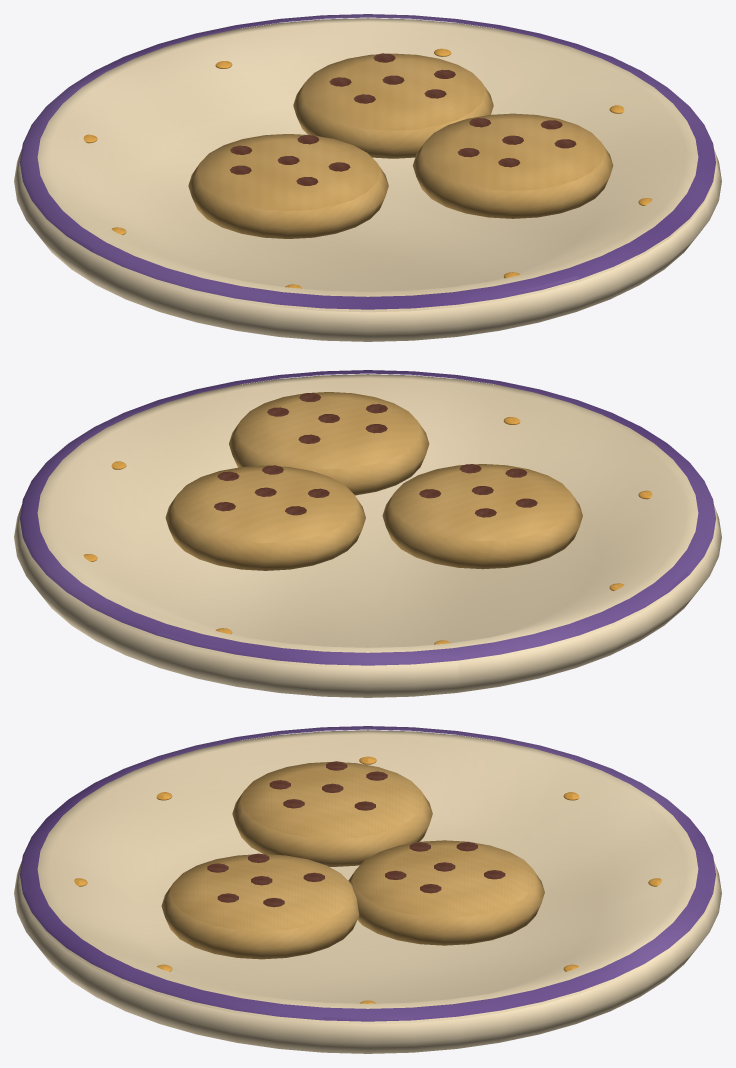
Rendered from V5_SnackCluster.fbx.
3 renders of one model, top to bottom at view 1: azimuth 30°, elevation 25°; view 2: azimuth 150°, elevation 25°; view 3: azimuth 270°, elevation 25°, orthographic.
Visible parts, largest first — view 1: V5_SnackCluster; view 2: V5_SnackCluster; view 3: V5_SnackCluster.
Boxes of the visible parts, left/top/right/bottom form: V5_SnackCluster: left=14, top=14, right=721, bottom=341; V5_SnackCluster: left=14, top=370, right=721, bottom=697; V5_SnackCluster: left=14, top=726, right=721, bottom=1053.
Size of the model in its own units: 0.24 by 0.0415 by 0.24.
1 material, 1 textured.
